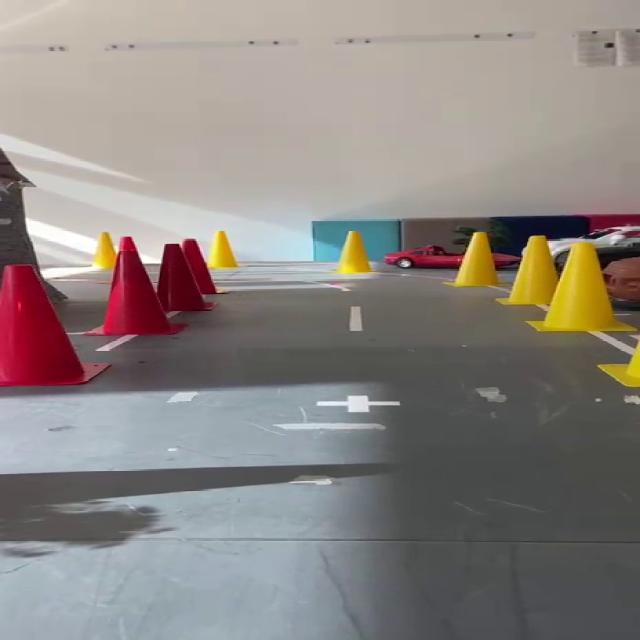Cone-red: (0, 265, 109, 386), (86, 237, 178, 335), (157, 244, 210, 312), (182, 240, 221, 294)
Cones-yellow: (531, 242, 633, 332), (501, 236, 556, 305), (451, 232, 498, 286), (599, 336, 639, 388), (337, 231, 371, 274), (210, 230, 237, 268), (92, 232, 116, 268)
